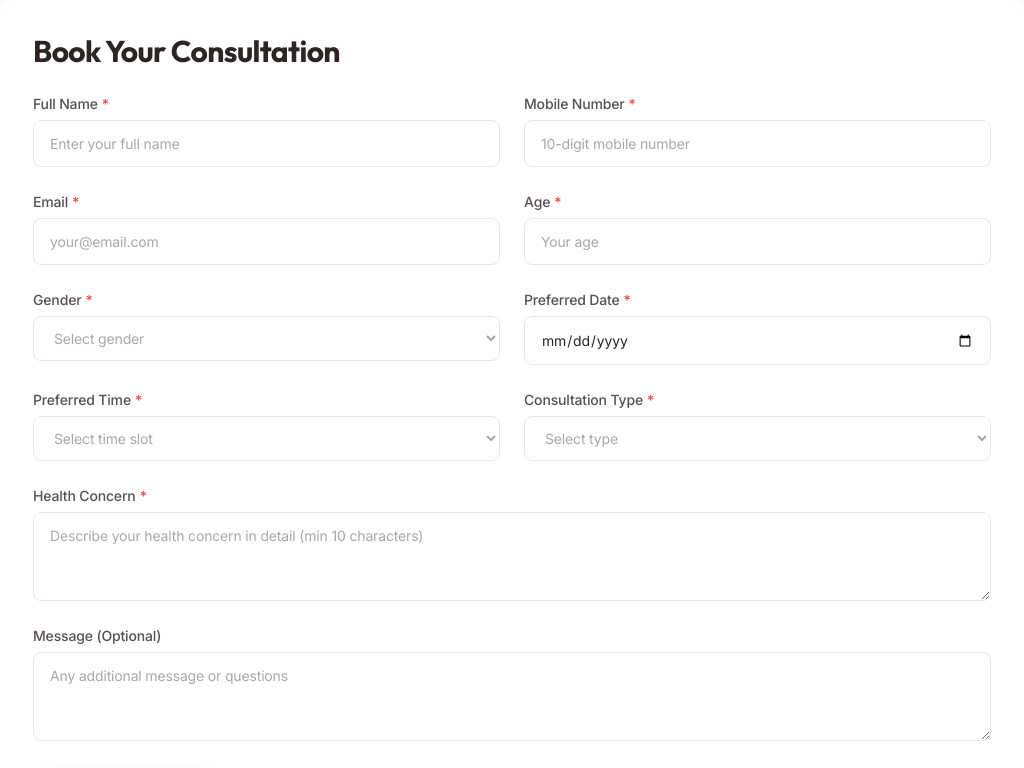
Test: AppointmentForm › Inline validation on blur › shows error for invalid email on blur
The image size is (1024, 768).
Type "invalid-email" into the field labelled "Email*" at [266, 242], box [33, 218, 500, 265]
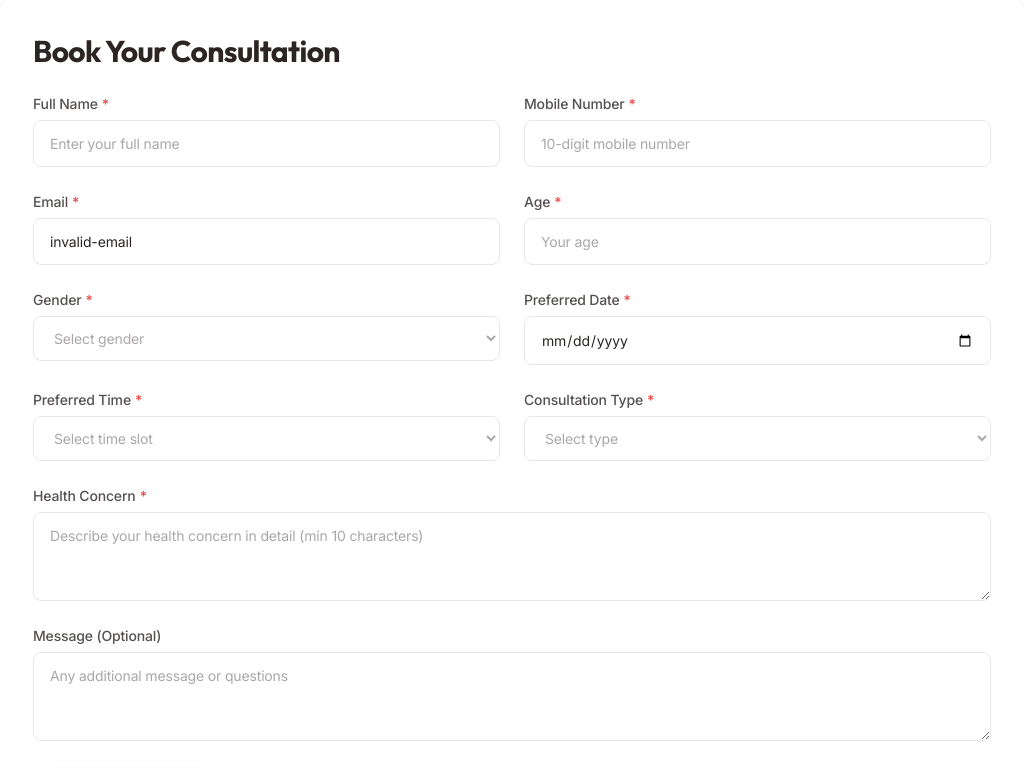
Leave the field labelled "Email*", box [33, 218, 500, 265]
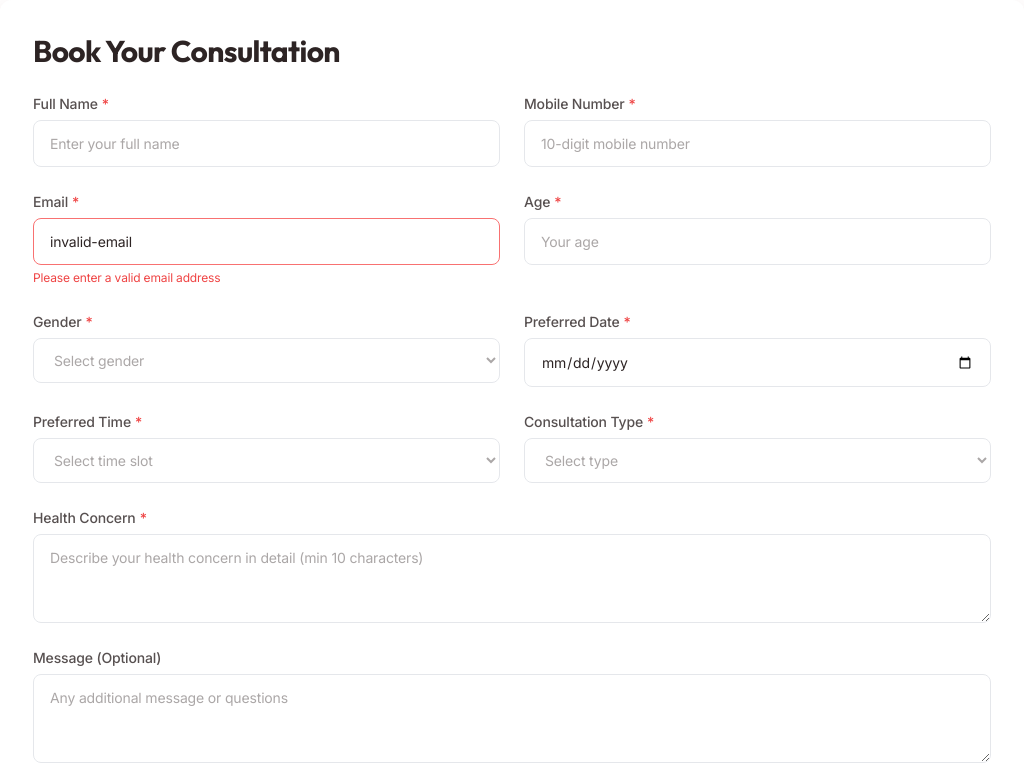
Check: the text "Please enter a valid email address" is shown, box [33, 270, 220, 285]
